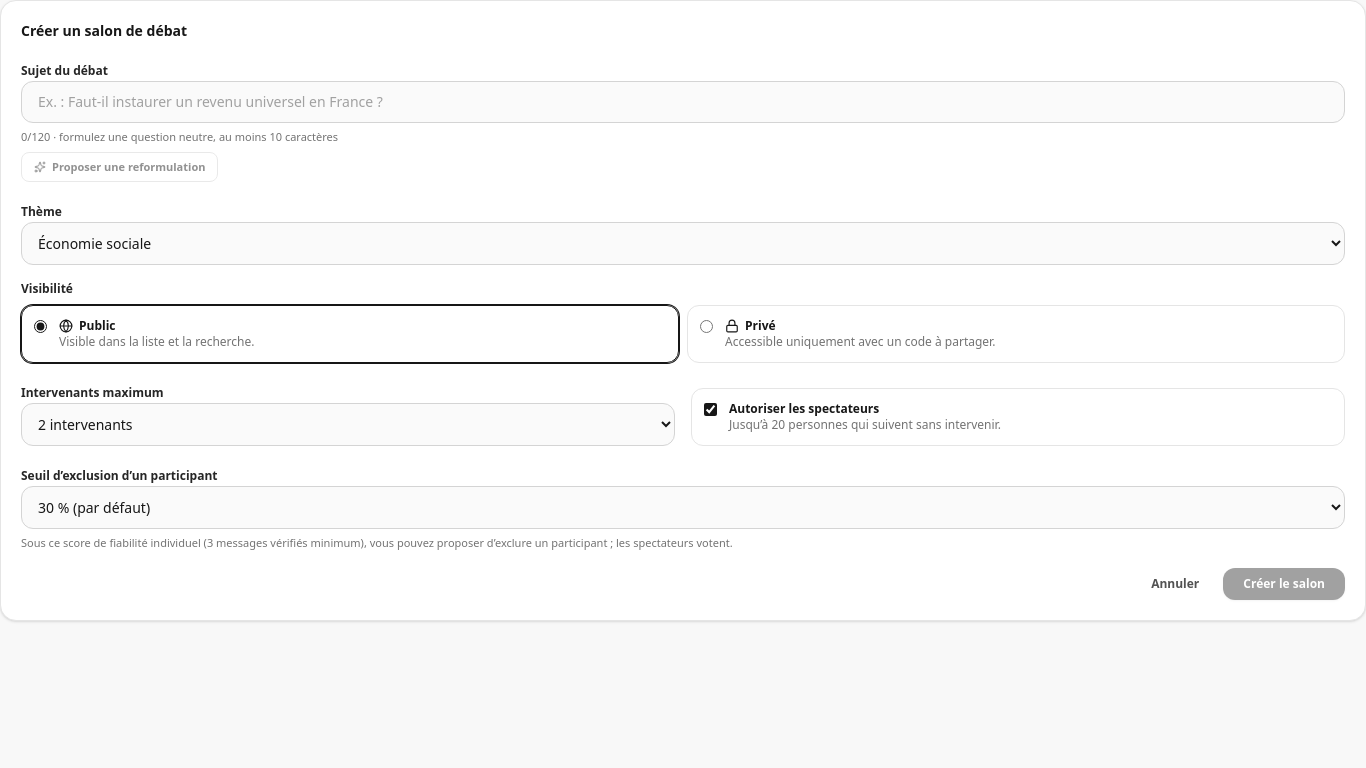
CreateRoomForm : reformulation par l’IA › affiche la proposition sans rien modifier ; « Utiliser » remplace le titre et le thème
Step 1. Type "smic 1700 il faut" into the field labelled "Sujet du débat" → (683, 102), box [21,81,1345,123]
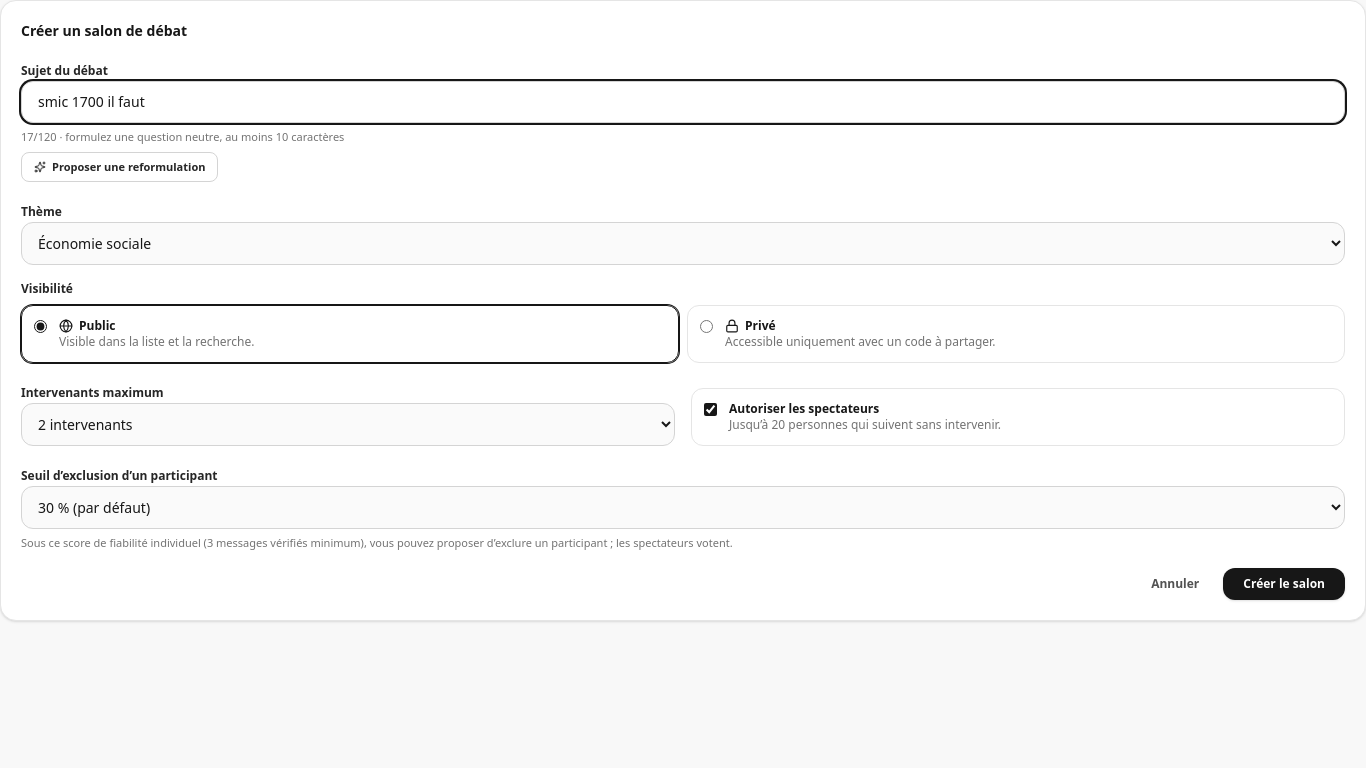
Step 2. Click the button "Proposer une reformulation" → (120, 167), box [21,152,218,182]
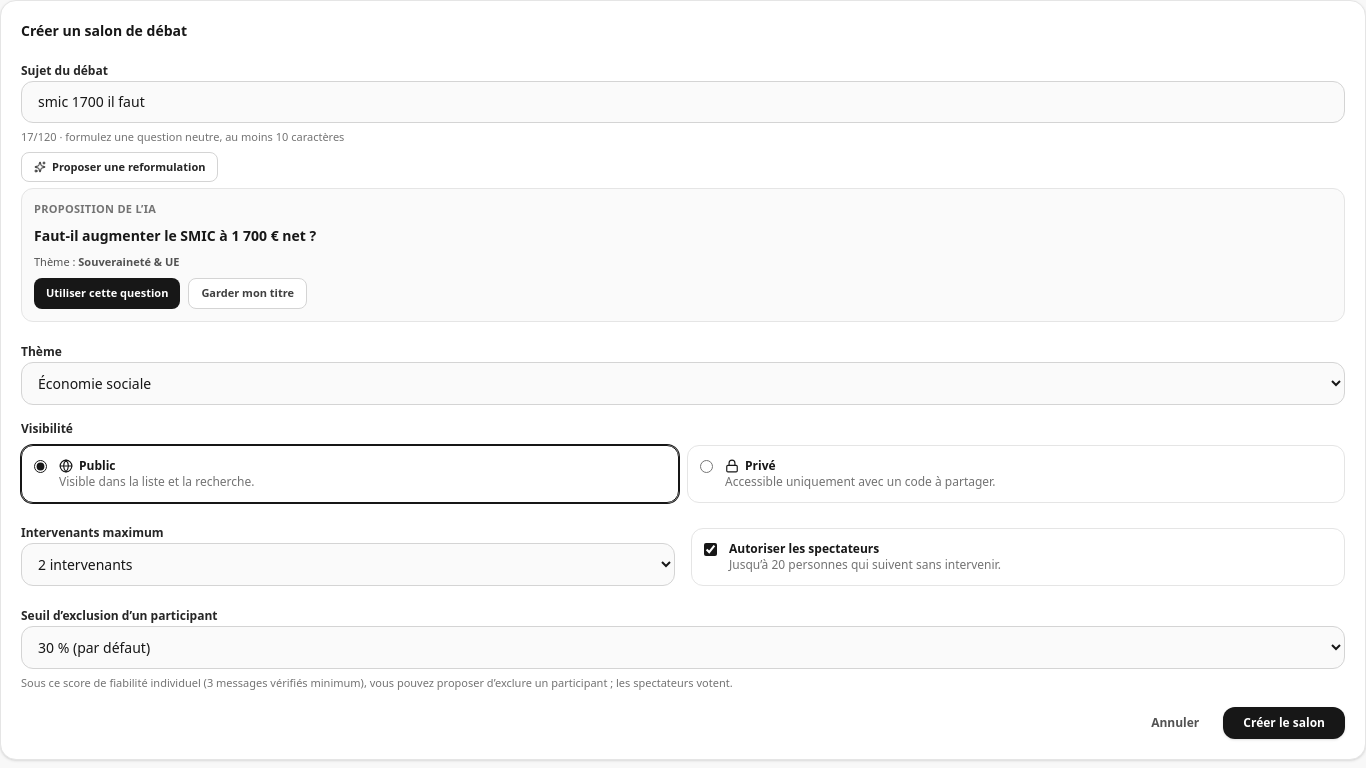
Check: the text "Faut-il augmenter le SMIC à 1 700 € net ?" is shown, box [34,226,316,244]
Step 3. Click the button "Utiliser cette question" → (107, 293), box [34,278,180,308]
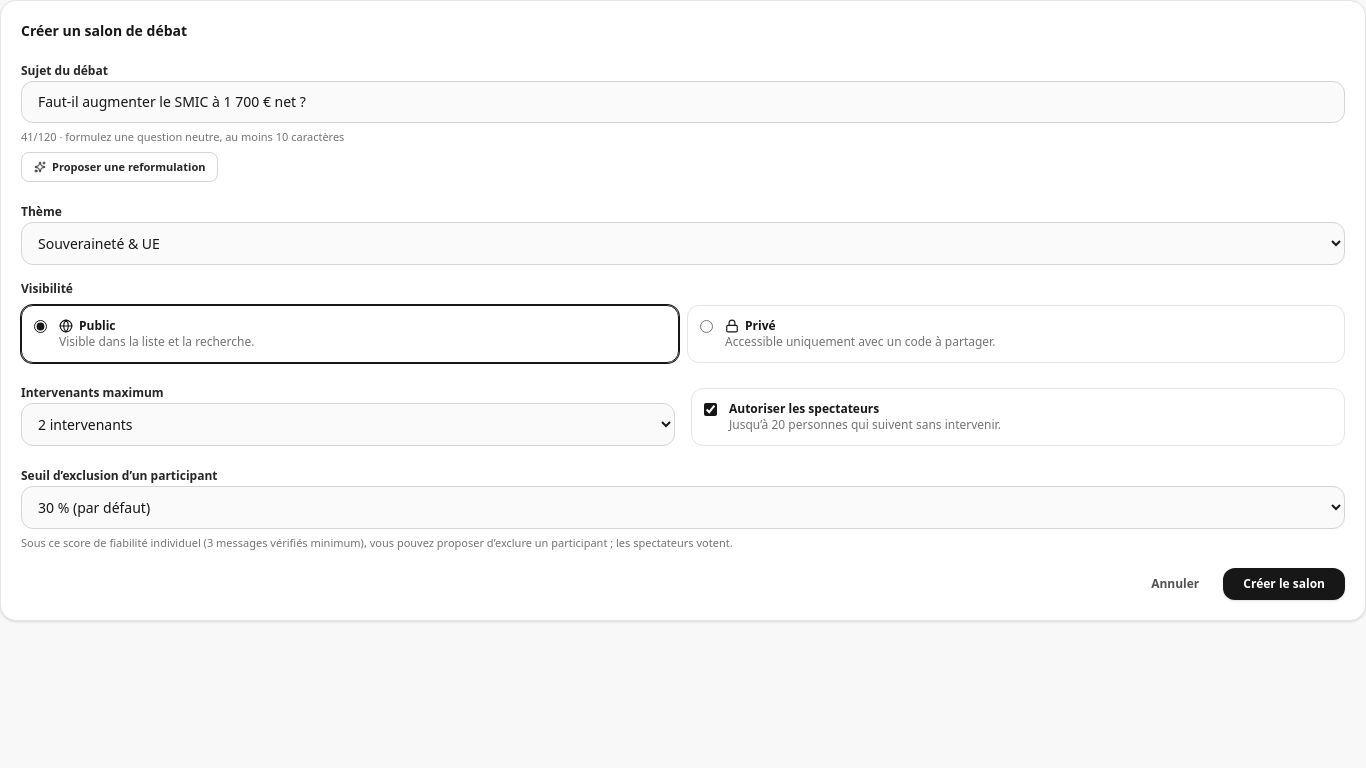
Check: the field labelled "Sujet du débat" holds "Faut-il augmenter le SMIC à 1 700 € net ?", box [21,81,1345,123]
Check: the dropdown labelled "Thème" shows "Souveraineté & UE", box [21,222,1345,265]
